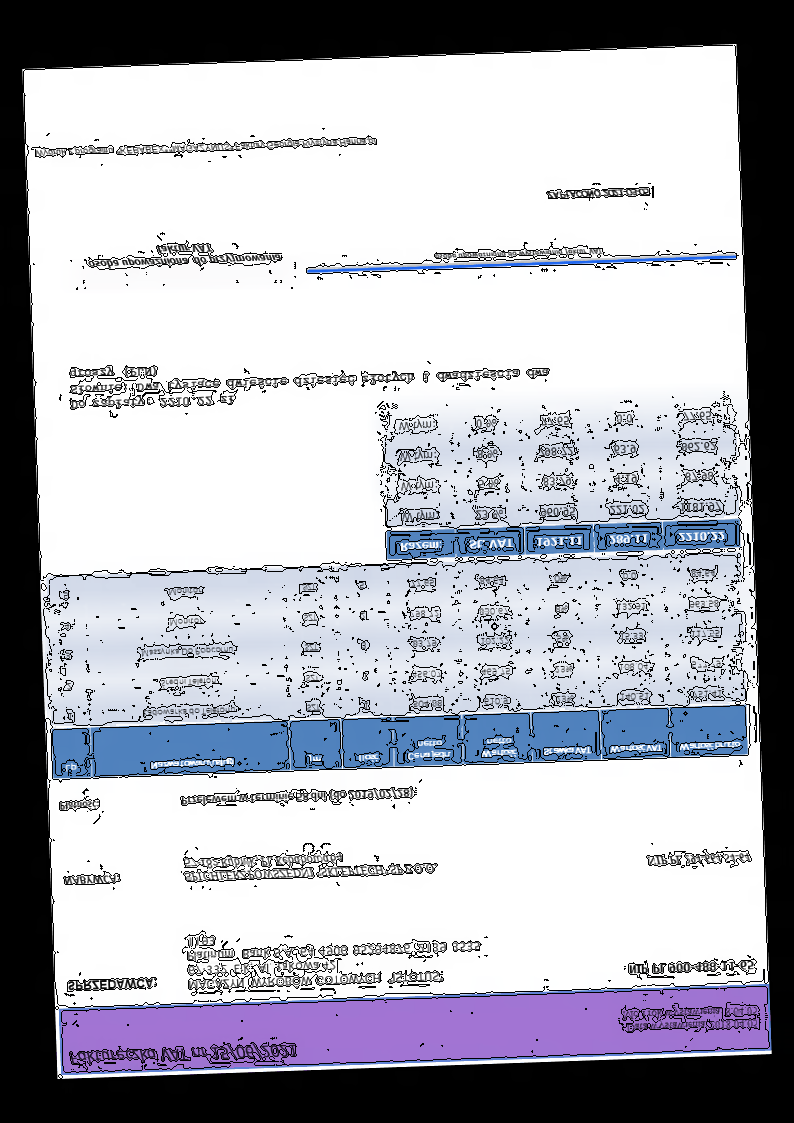Table: (44, 551, 750, 780), (381, 396, 742, 561)
TextBox: (67, 349, 553, 412), (184, 926, 484, 994), (182, 847, 439, 885), (32, 135, 379, 161), (85, 238, 284, 273), (67, 1041, 298, 1068), (179, 786, 414, 807), (621, 1005, 760, 1037), (432, 246, 604, 263), (625, 957, 755, 977), (65, 975, 159, 996), (645, 850, 751, 868), (544, 185, 650, 203), (61, 872, 122, 888), (58, 797, 101, 814)
